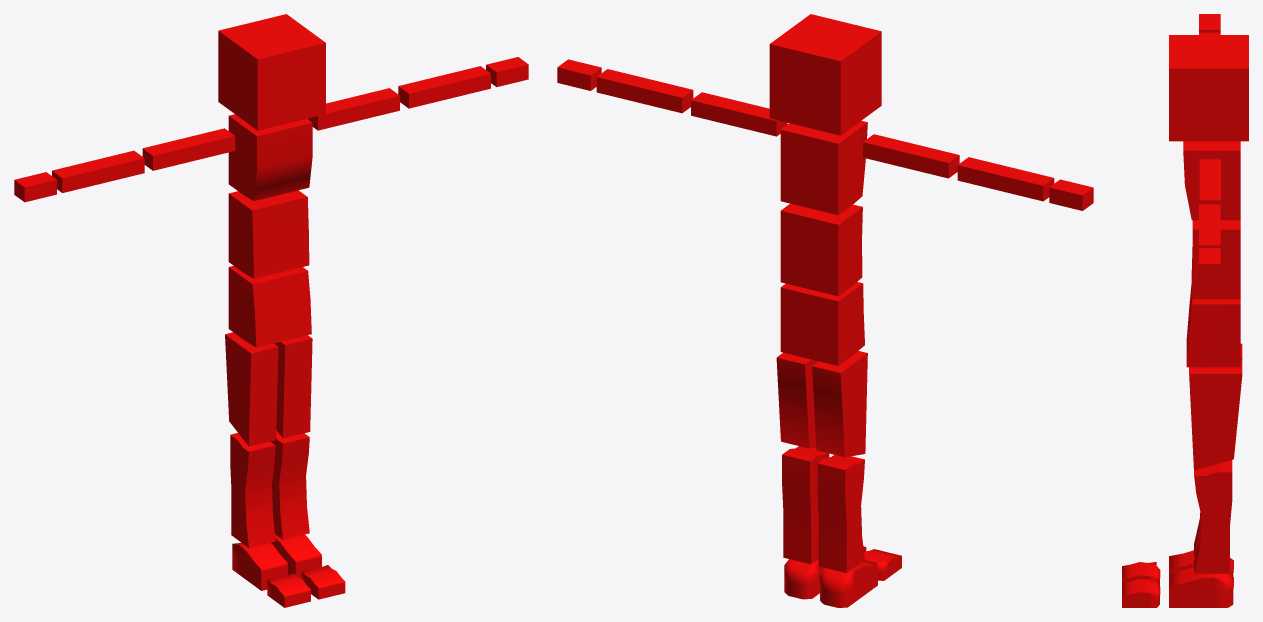
The model's file is character.fbx.
The picture shows the model from 3 angles, left to right: view 1: azimuth 30°, elevation 25°; view 2: azimuth 150°, elevation 25°; view 3: azimuth 270°, elevation 25°; orthographic projection. The views are drawn at different scales.
Visible parts, largest first — view 1: cabeza, panza, pecho, cadera, pierna_derecha, rodilla_2, rodilla, pierna_izquierda, pie, brazo_derecho, ante_brazo, ante_braso (+5 smaller); view 2: cabeza, pecho, panza, cadera, rodilla_2, pierna_derecha, rodilla, pierna_izquierda, ante_brazo, brazo_derecho, ante_braso, brazo_izquierdo (+5 smaller); view 3: cabeza, pierna_izquierda, rodilla, cadera, pie, pecho, panza, brazo_izquierdo, ante_brazo, mano_2, pie_2_3, pie_2_2 (+1 smaller).
Boxes of the visible parts, bbox=[...] form: cabeza: bbox=[218, 14, 325, 130]; panza: bbox=[228, 190, 309, 278]; pecho: bbox=[228, 114, 312, 200]; cadera: bbox=[228, 266, 311, 347]; pierna_derecha: bbox=[225, 332, 278, 446]; rodilla_2: bbox=[230, 433, 275, 547]; rodilla: bbox=[270, 430, 309, 539]; pierna_izquierda: bbox=[274, 335, 312, 438]; pie: bbox=[271, 534, 345, 599]; brazo_derecho: bbox=[142, 128, 235, 170]; ante_brazo: bbox=[398, 66, 490, 108]; ante_braso: bbox=[52, 150, 144, 192]; cabeza: bbox=[769, 14, 881, 135]; pecho: bbox=[780, 120, 867, 215]; panza: bbox=[780, 203, 862, 296]; cadera: bbox=[780, 282, 864, 365]; rodilla_2: bbox=[817, 454, 864, 572]; pierna_derecha: bbox=[812, 351, 867, 457]; rodilla: bbox=[782, 446, 829, 564]; pierna_izquierda: bbox=[776, 352, 818, 448]; ante_brazo: bbox=[596, 69, 693, 113]; brazo_derecho: bbox=[863, 134, 959, 178]; ante_braso: bbox=[957, 157, 1054, 201]; brazo_izquierdo: bbox=[691, 92, 787, 136]; cabeza: bbox=[1169, 35, 1248, 141]; pierna_izquierda: bbox=[1189, 360, 1242, 470]; rodilla: bbox=[1194, 460, 1232, 573]; cadera: bbox=[1186, 284, 1240, 367]; pie: bbox=[1122, 567, 1233, 607]; pecho: bbox=[1183, 141, 1240, 220]; panza: bbox=[1191, 220, 1240, 299]; brazo_izquierdo: bbox=[1199, 159, 1220, 214]; ante_brazo: bbox=[1199, 204, 1220, 247]; mano_2: bbox=[1199, 248, 1220, 278]; pie_2_3: bbox=[1122, 562, 1160, 585]; pie_2_2: bbox=[1169, 550, 1233, 576].
Bounding box in the file's own units: 169 × 171 × 36.29.
